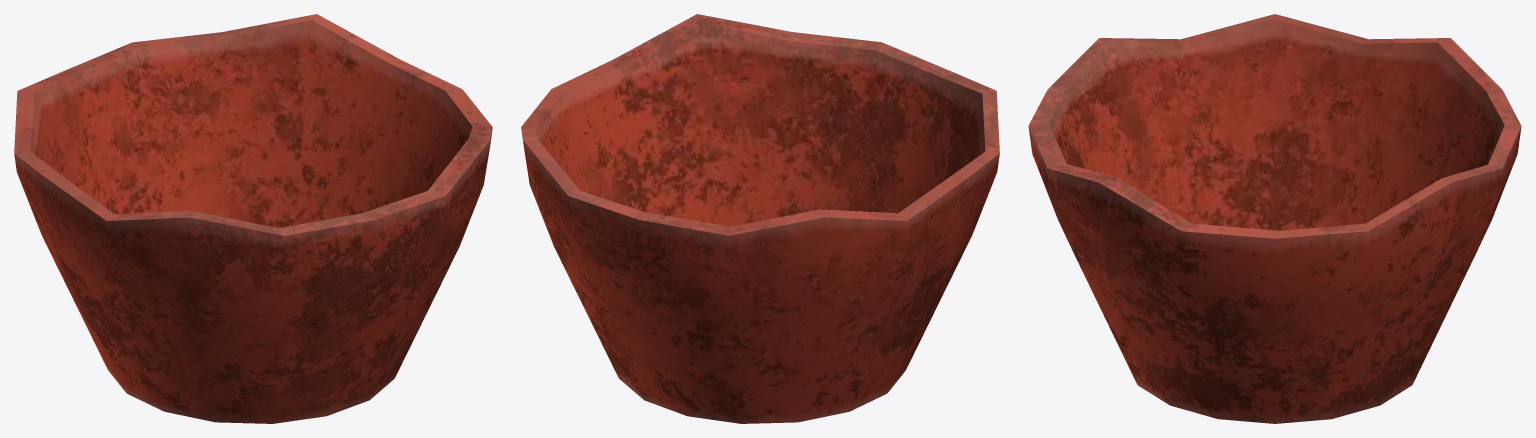
File: jar_broken.glb
3 renders of one model, left to right at view 1: azimuth 30°, elevation 25°; view 2: azimuth 150°, elevation 25°; view 3: azimuth 270°, elevation 25°, orthographic.
Visible parts, largest first — view 1: Jar_Broken_1; view 2: Jar_Broken_1; view 3: Jar_Broken_1.
Part boxes in pixels (x1,y1,x2,y2): Jar_Broken_1: (14,14,492,423); Jar_Broken_1: (521,14,999,423); Jar_Broken_1: (1028,14,1521,423).
Bounding box in the file's own units: 0.5783 × 0.3271 × 0.5787.
Materials: 1 (1 with a texture image).
